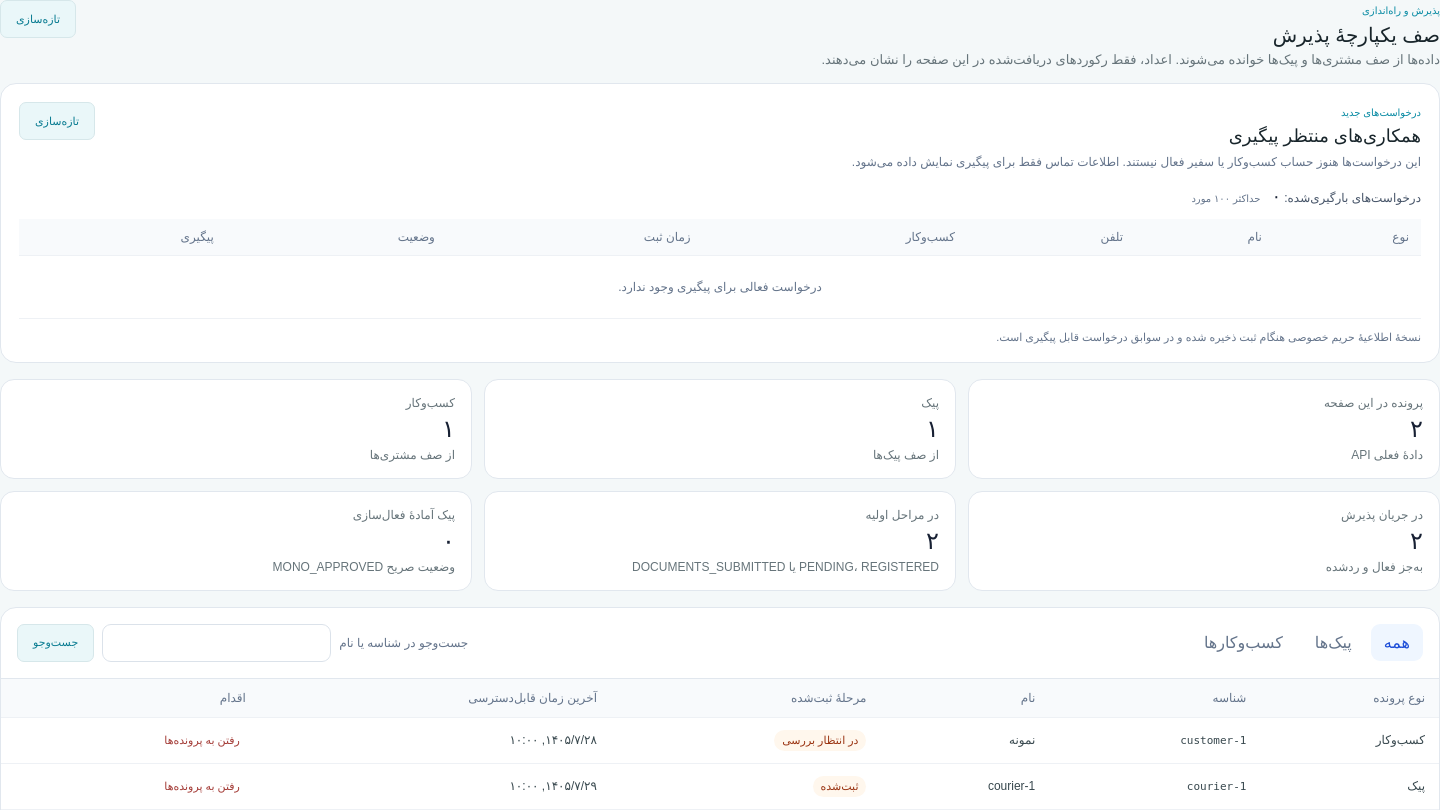
Test case: AdmissionsWorkbench › combines real courier and business responses and filters by record type
expect the text "نمونه" is shown: met, box [880,717,1049,763]
expect the text "courier-1" is shown 2 times: met, box [1049,763,1260,809]; [880,763,1049,809]
Click the tab "پیک‌ها". click: (1333, 643)
box: [1302,624,1365,661]
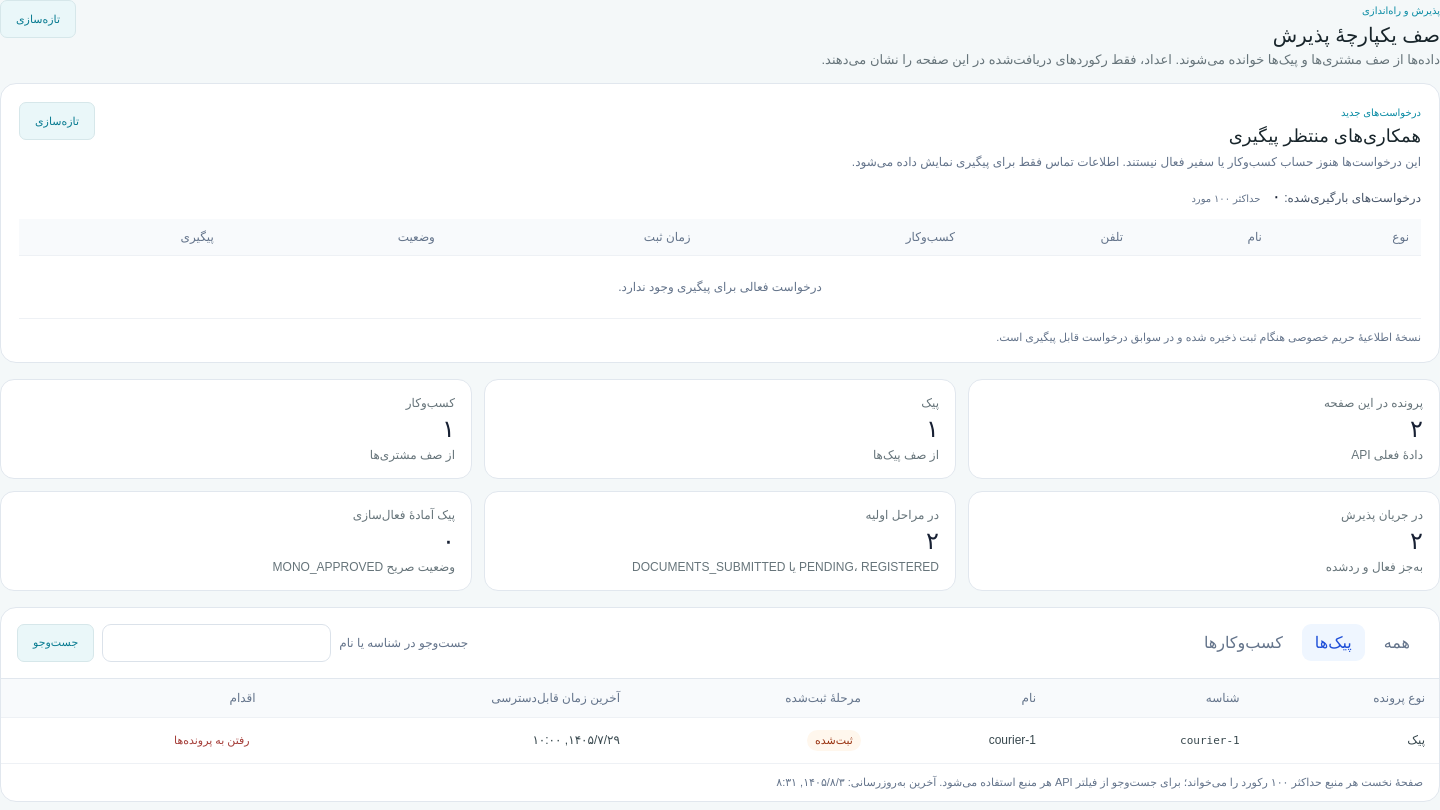
expect the text "نمونه" is gone: met
expect the text "courier-1" is shown 2 times: met, box [1050,717,1254,763]; [875,717,1050,763]
